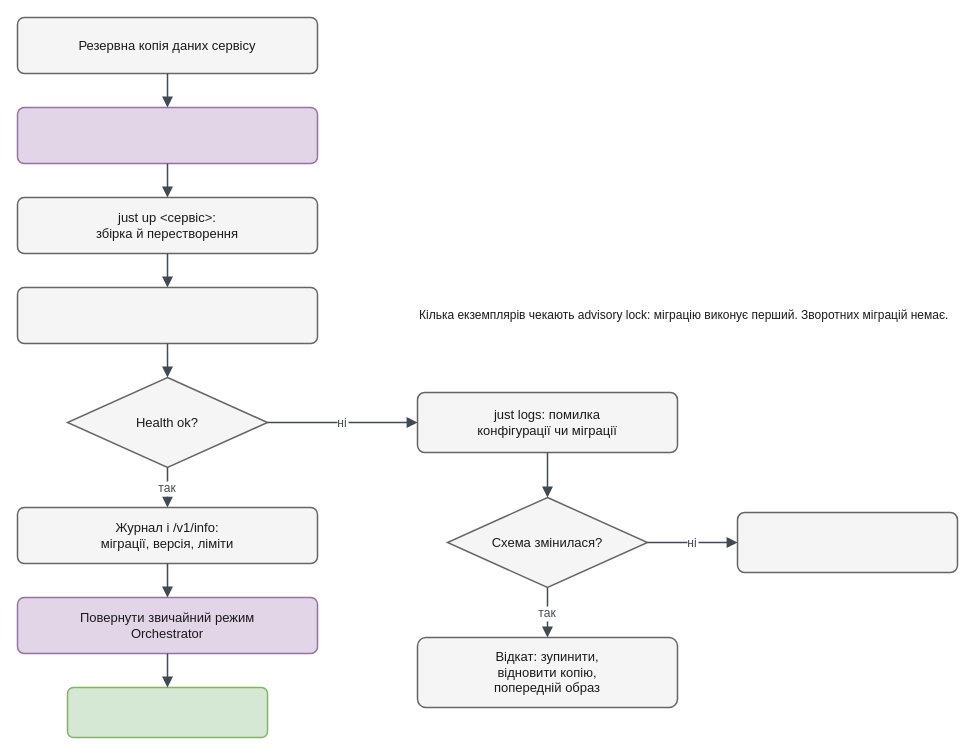
This 976x756 diagram has some shape labels left out. Here are the shapes that lost their labels. From the top down, the centre of each, then its label:
At point (167, 135): "Orchestrator: вимкнути планувальник і воркери".
At point (167, 315): "Старт: міграції схеми під advisory lock".
At point (847, 542): "Попередній образ без відновлення".
At point (167, 712): "Готово".
